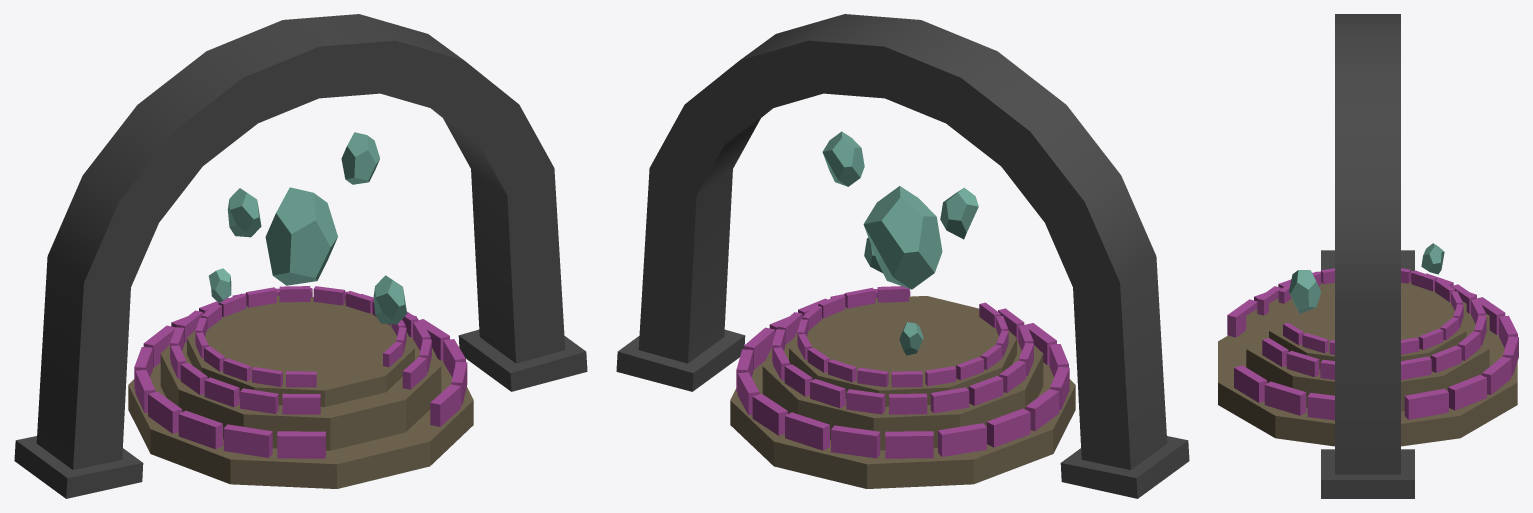
File: Temple.fbx
3 renders of one model, left to right at view 1: azimuth 30°, elevation 25°; view 2: azimuth 150°, elevation 25°; view 3: azimuth 270°, elevation 25°, orthographic. The views are drawn at different scales.
Parts seen in each view (by area): view 1: Base1, pPlatonic1, pPlatonic2, pPlatonic4, pPlatonic3; view 2: Base1, pPlatonic1, pPlatonic2, pPlatonic3; view 3: Base1, pPlatonic4, pPlatonic5.
Part boxes in pixels (x1,y1,x2,y2): Base1: [14, 14, 587, 498]; pPlatonic1: [265, 187, 337, 285]; pPlatonic2: [341, 132, 379, 184]; pPlatonic4: [373, 275, 407, 324]; pPlatonic3: [227, 188, 261, 237]; Base1: [616, 14, 1189, 498]; pPlatonic1: [863, 186, 942, 289]; pPlatonic2: [822, 131, 864, 186]; pPlatonic3: [940, 187, 978, 239]; Base1: [1218, 14, 1518, 498]; pPlatonic4: [1289, 270, 1321, 313]; pPlatonic5: [1421, 243, 1444, 274].
Bounding box in the file's own units: 125 × 87.82 × 68.65.
